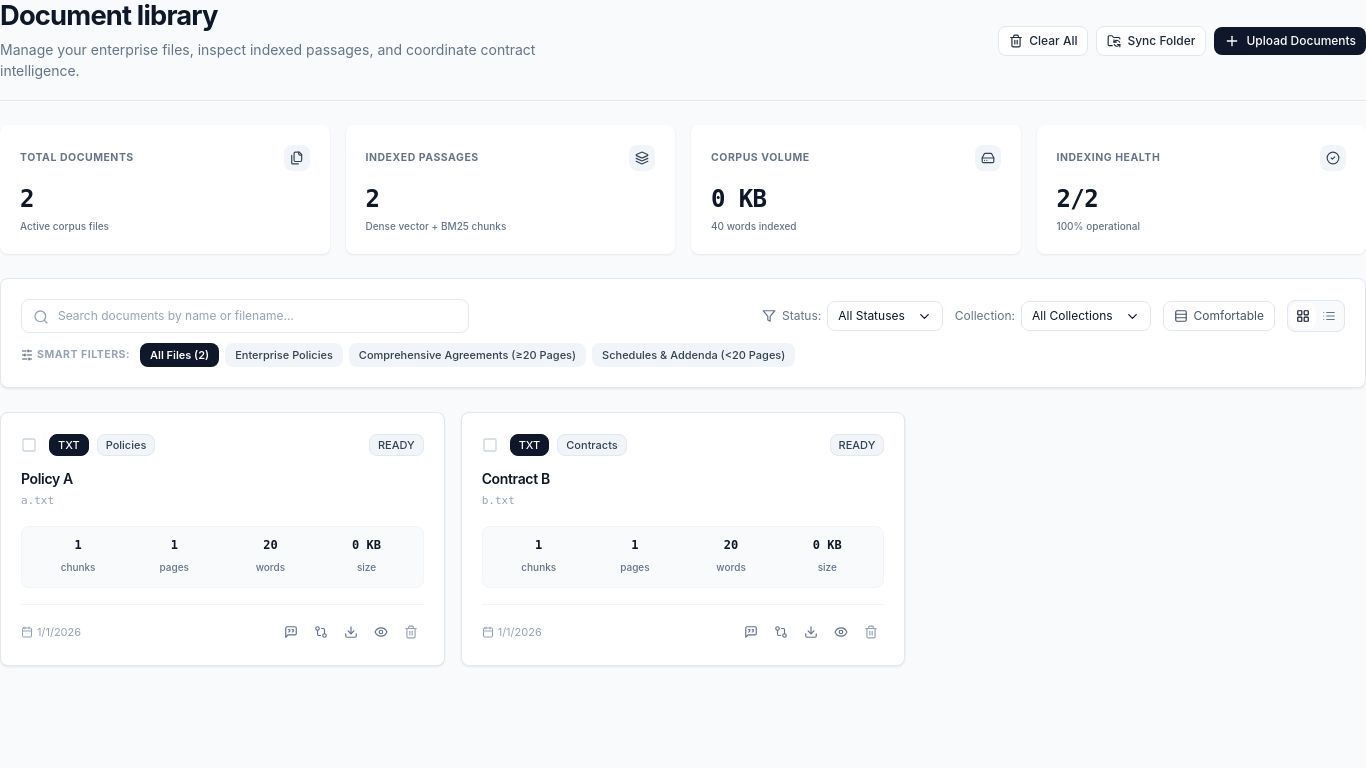
Test case: Workspace interactions › opens passages while lexical analysis is still loading
The image size is (1366, 768).
Click the heading "Policy A": [47, 479] box [21, 470, 73, 487]
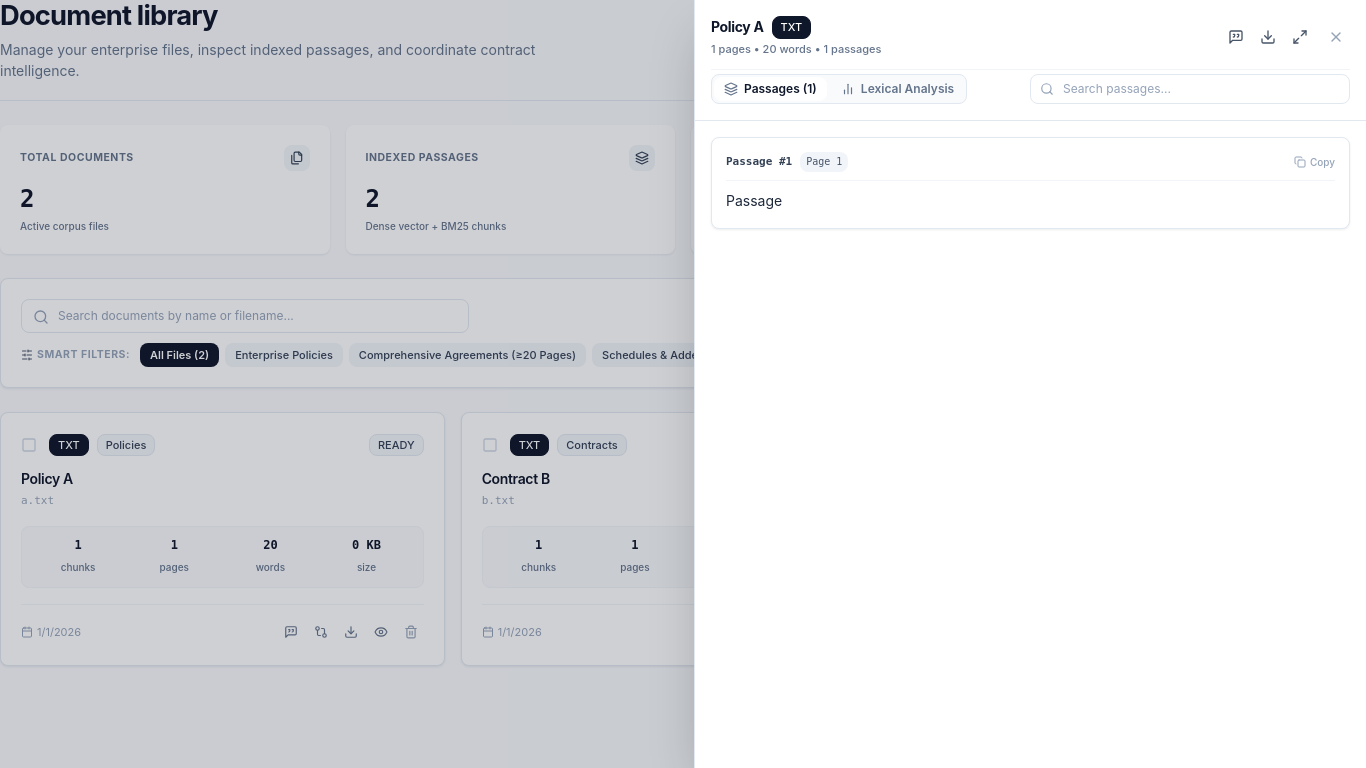
Expected: the text "Passage" is shown, [726, 192, 782, 209]
Click the button "Lexical Analysis": [898, 89] box [831, 77, 964, 101]
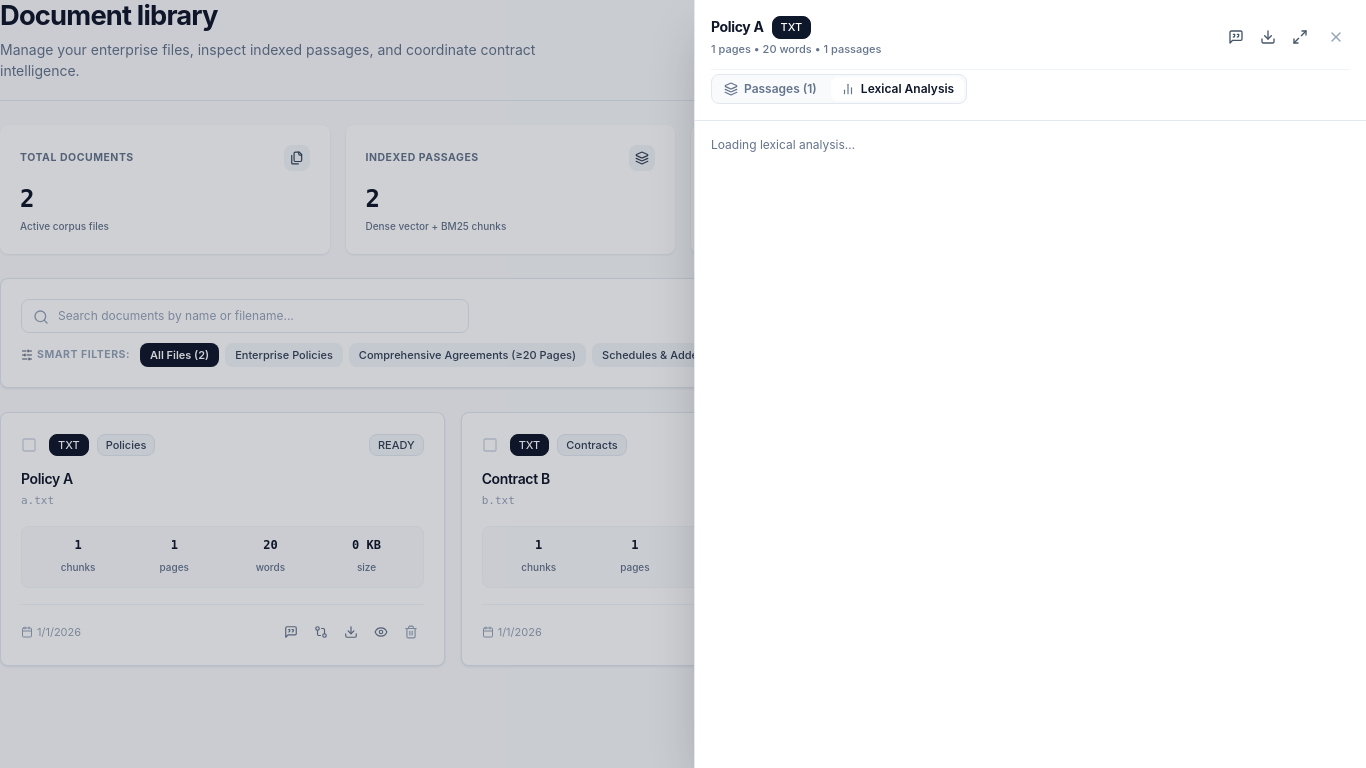
Expected: the text "Loading lexical analysis…" is shown, [711, 137, 855, 152]
